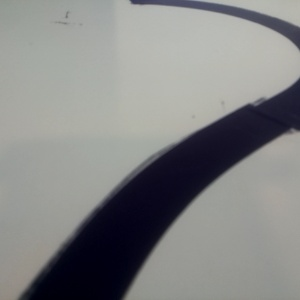top_left: (145, 10, 220, 33)
